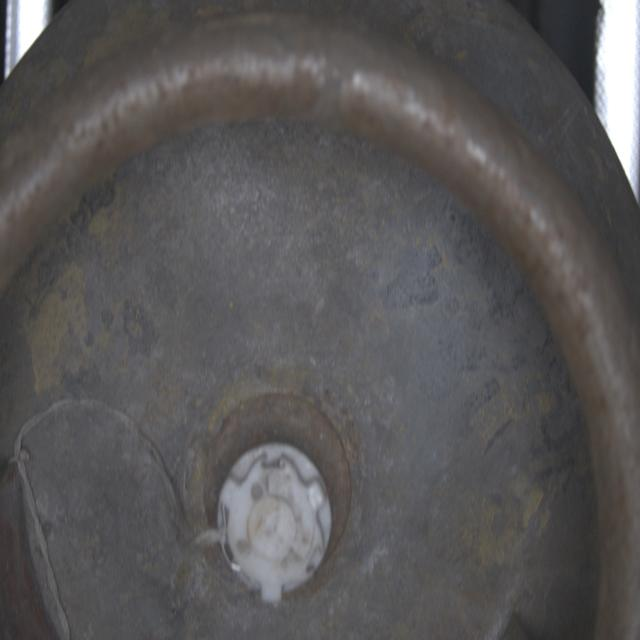Cap: (214, 437, 331, 607)
